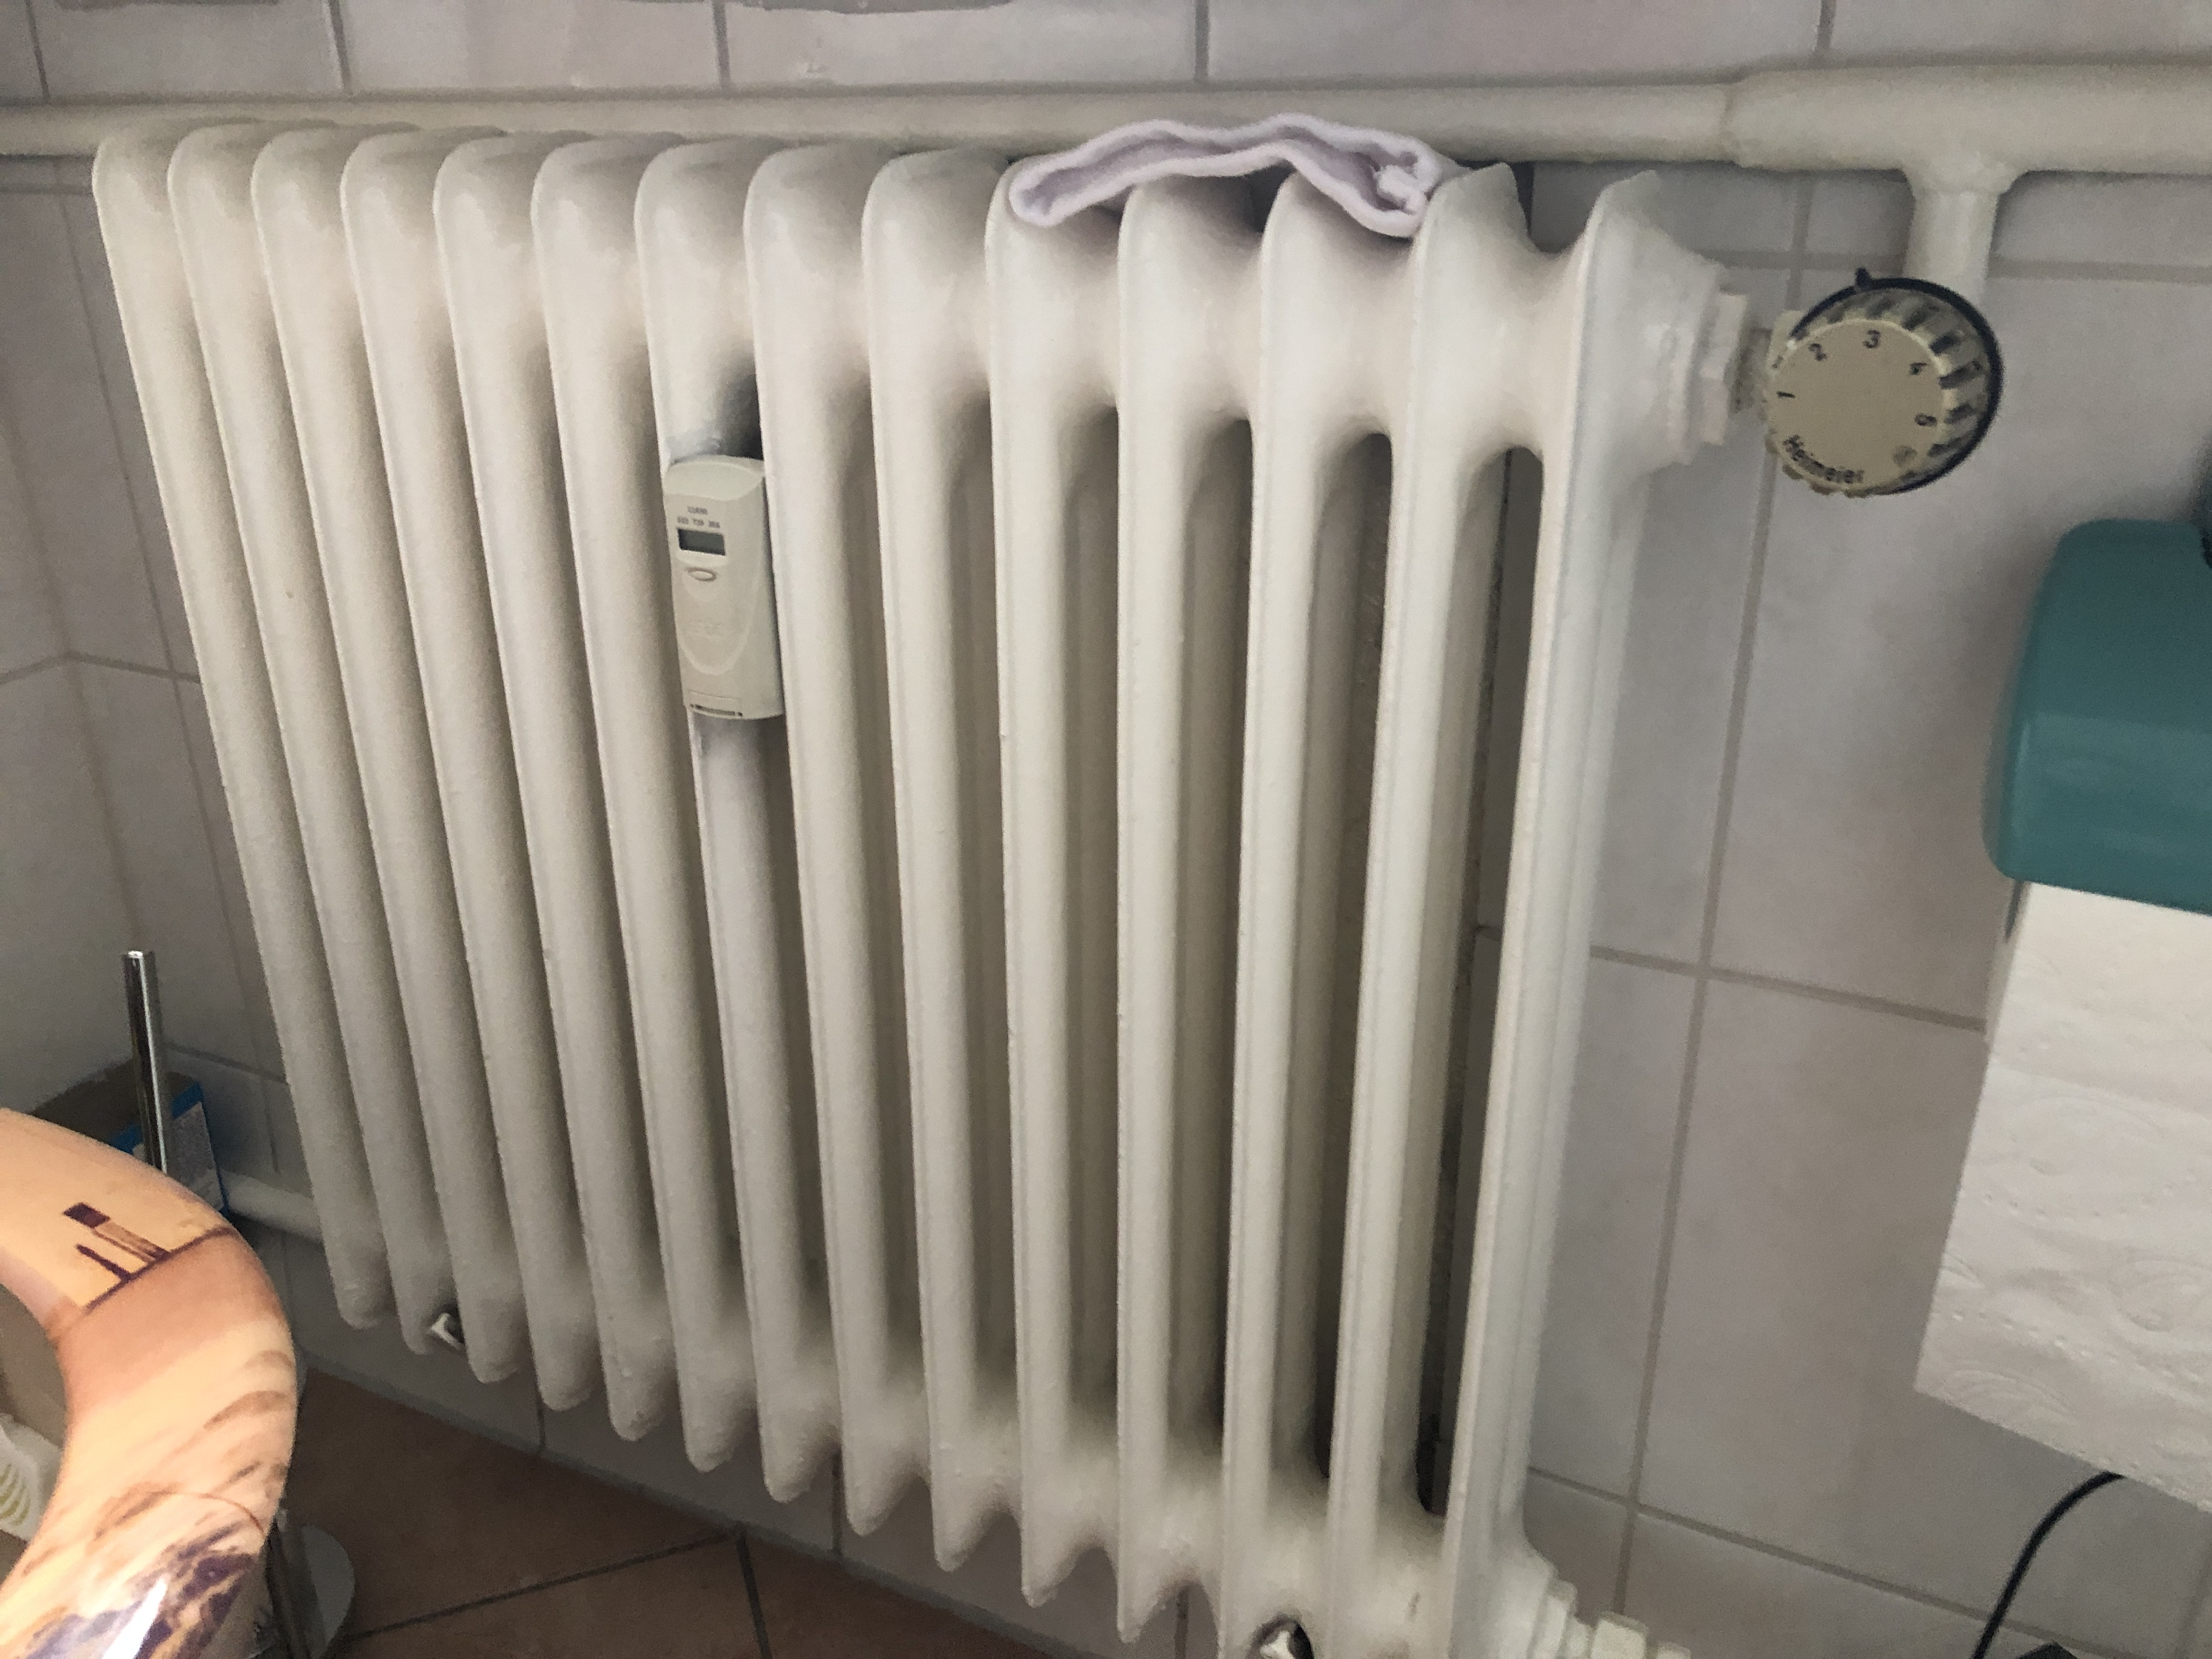Radiator: (77, 84, 2010, 1659)
